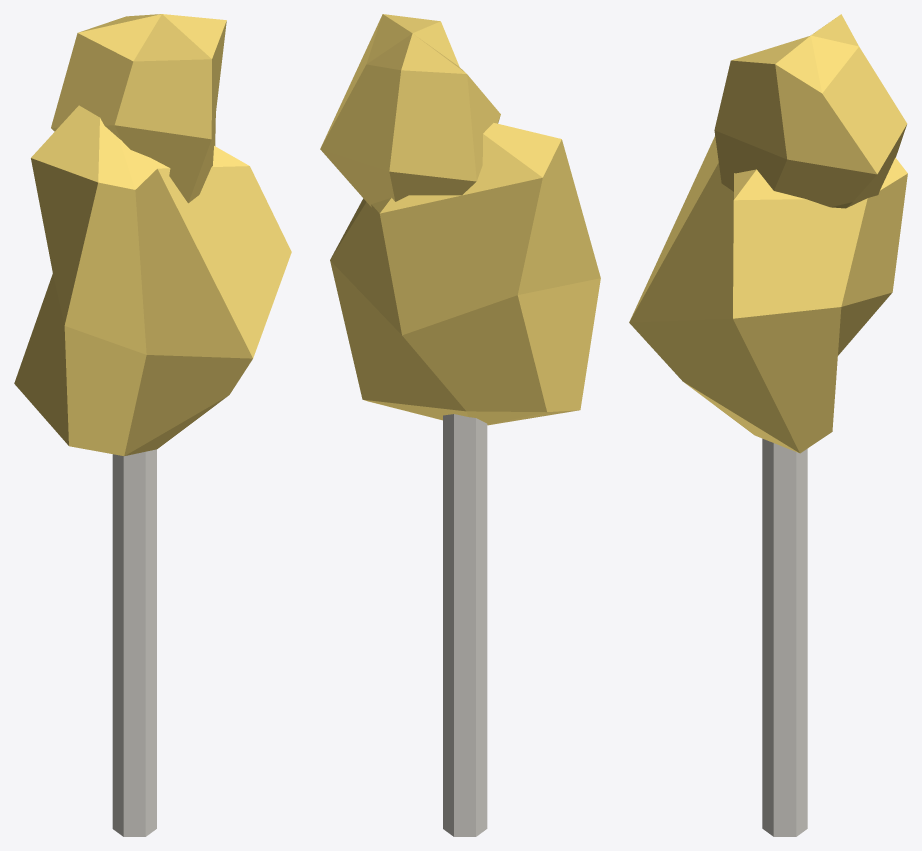
File: aspen.glb
3 views of the same model, side by side, from view 1: azimuth 30°, elevation 25°; view 2: azimuth 150°, elevation 25°; view 3: azimuth 270°, elevation 25° (orthographic). The views are drawn at different scales.
Parts seen in each view (by area): view 1: aspen; view 2: aspen; view 3: aspen.
Part boxes in pixels (left/top/right/bottom): aspen: left=14, top=14, right=291, bottom=836; aspen: left=320, top=14, right=600, bottom=836; aspen: left=629, top=14, right=907, bottom=836.
Bounding box in the file's own units: 1.96 × 6.34 × 1.97.
